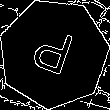P_S: (28, 24, 79, 83)
